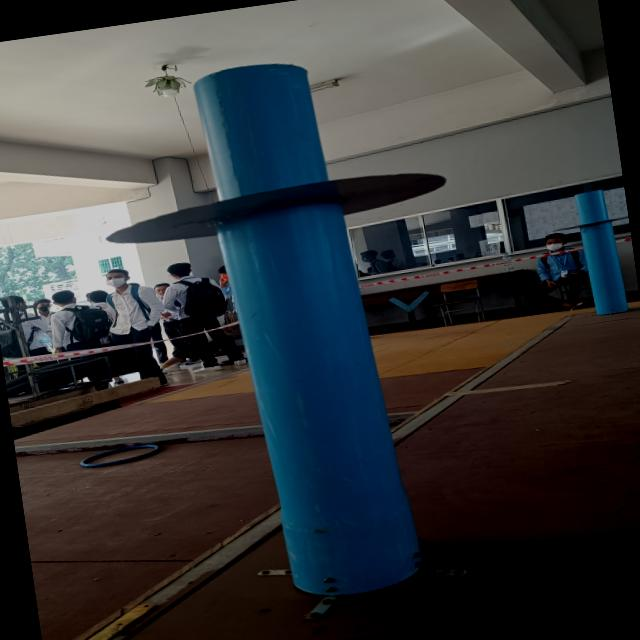pole: (67, 33, 487, 375)
